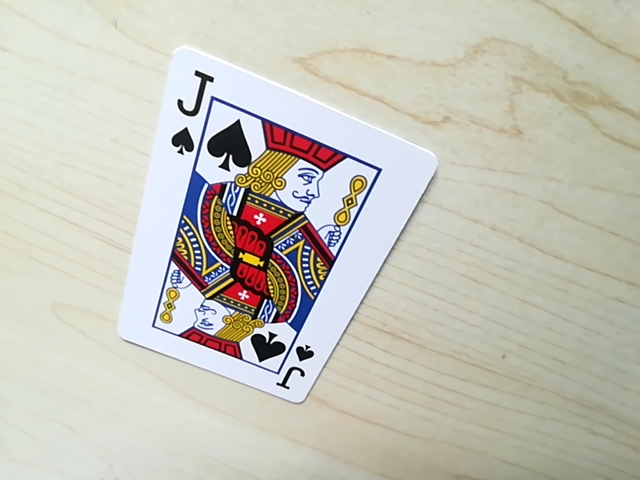ht j: (162, 62, 234, 162), (265, 342, 321, 393)
